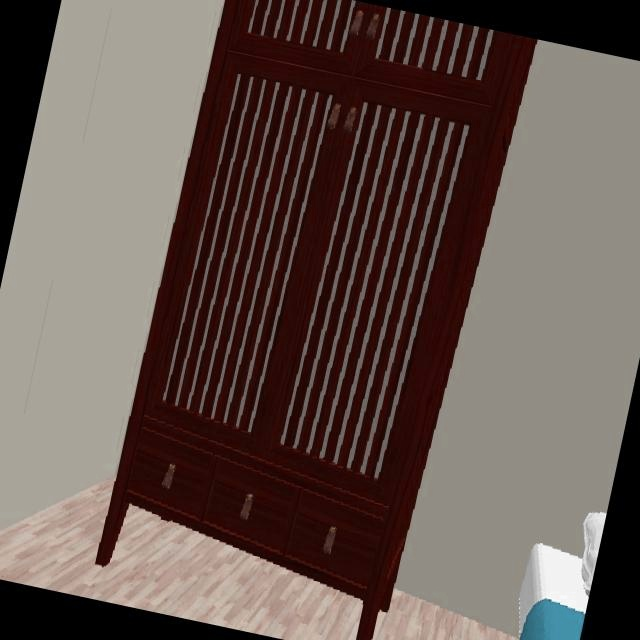bed: (517, 543, 588, 640)
pillow: (580, 512, 606, 598)
wardrobe: (95, 0, 537, 640)
